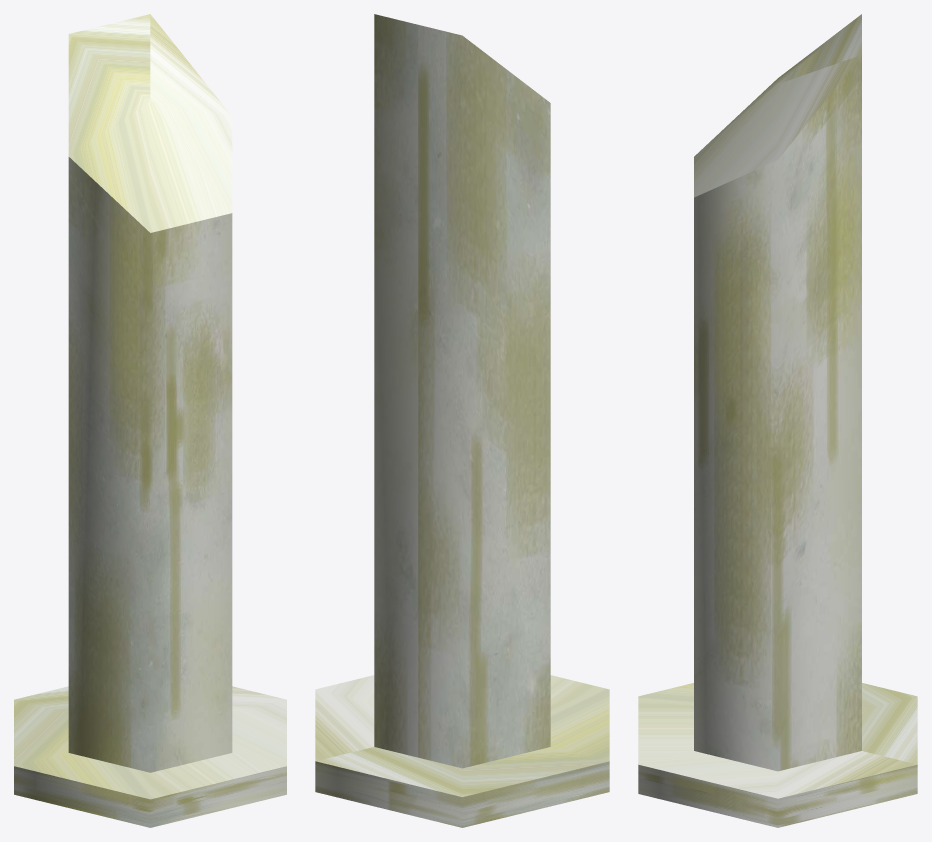
Rendered from AncientColumnBroken.FBX.
3 renders of one model, left to right at view 1: azimuth 30°, elevation 25°; view 2: azimuth 150°, elevation 25°; view 3: azimuth 270°, elevation 25°, orthographic. The views are drawn at different scales.
Parts seen in each view (by area): view 1: Cylinder003, Cylinder001; view 2: Cylinder003, Cylinder001; view 3: Cylinder003, Cylinder001.
Boxes of the visible parts, bbox=[...] form: Cylinder003: bbox=[68, 14, 232, 772]; Cylinder001: bbox=[14, 686, 286, 827]; Cylinder003: bbox=[374, 14, 550, 768]; Cylinder001: bbox=[315, 675, 609, 827]; Cylinder003: bbox=[694, 14, 861, 771]; Cylinder001: bbox=[638, 683, 917, 827].
Bounding box in the file's own units: 10 × 8.66 × 24.79.
1 material, 1 textured.
